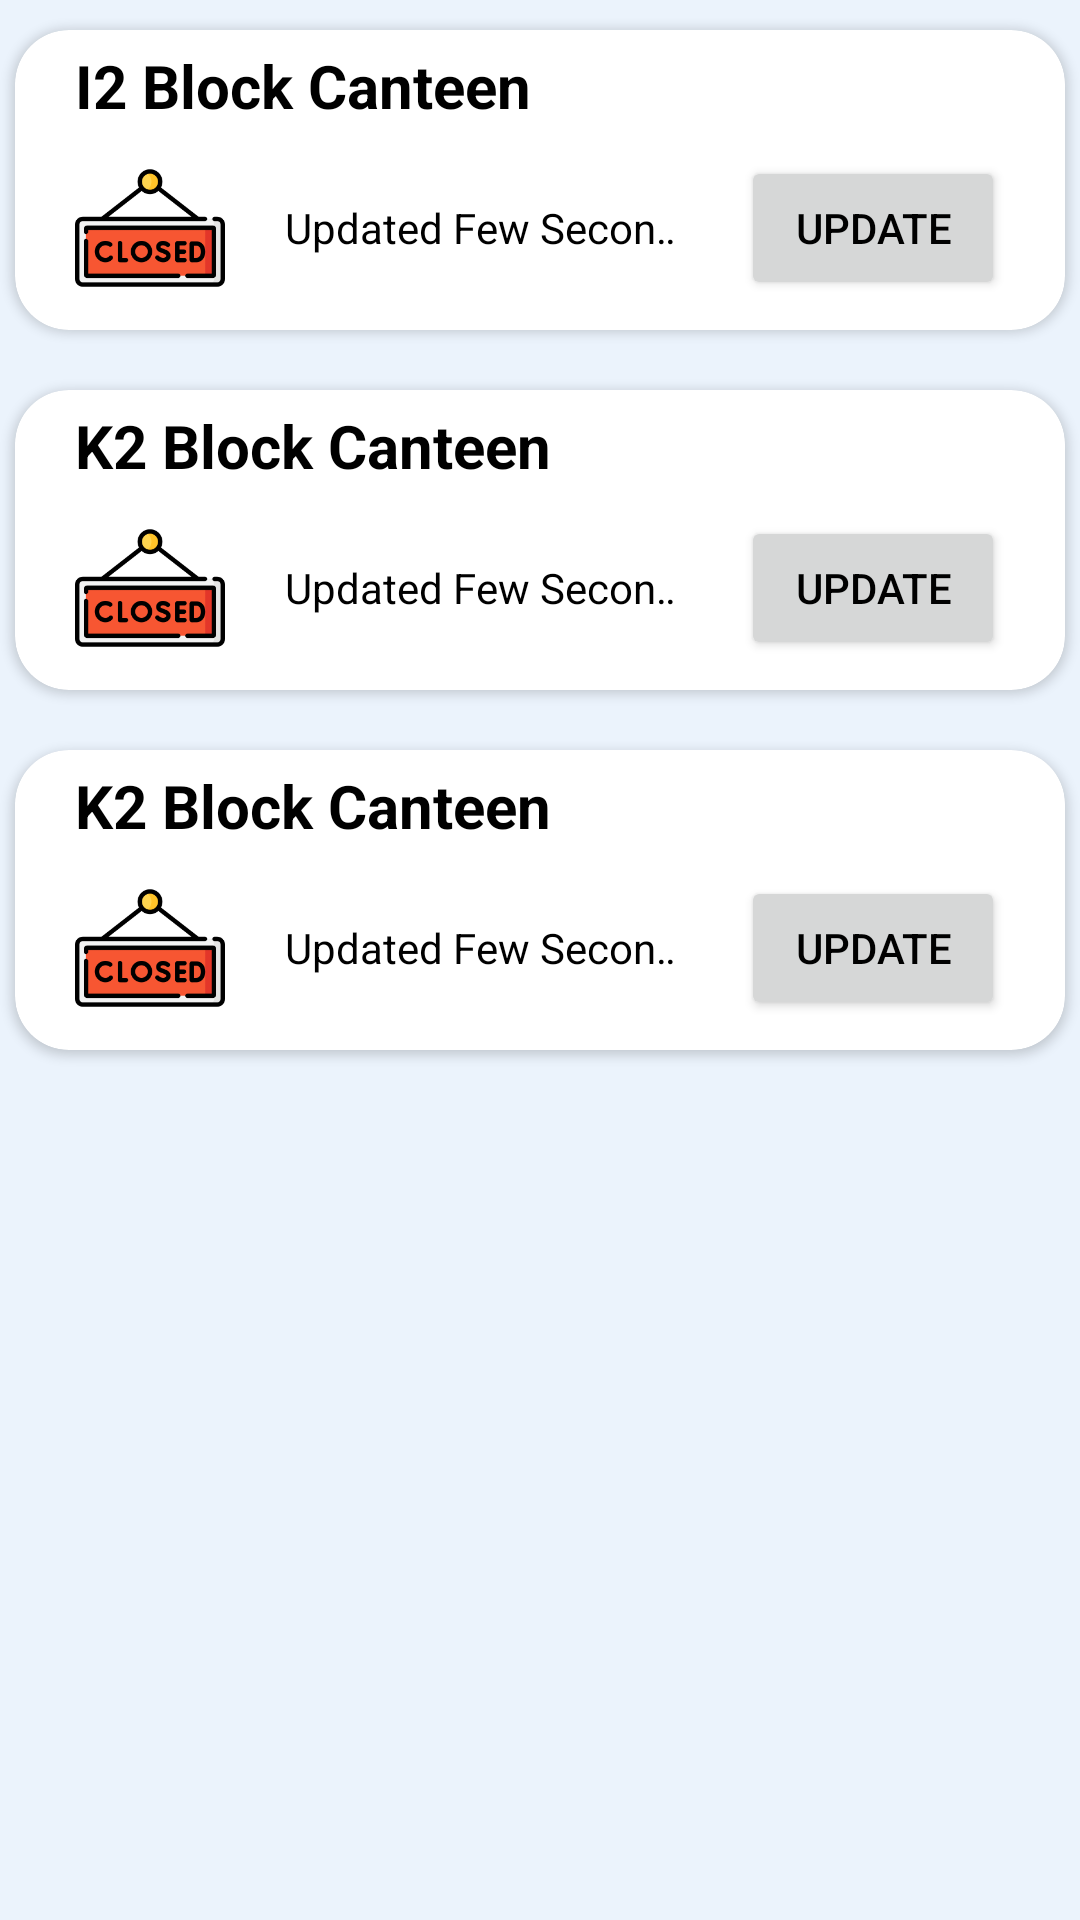

Icons on this 1080 × 1920 Android screen, each with the point to tap as point (x, y):
canteen closed: point (150, 228), point (150, 588), point (150, 948)
